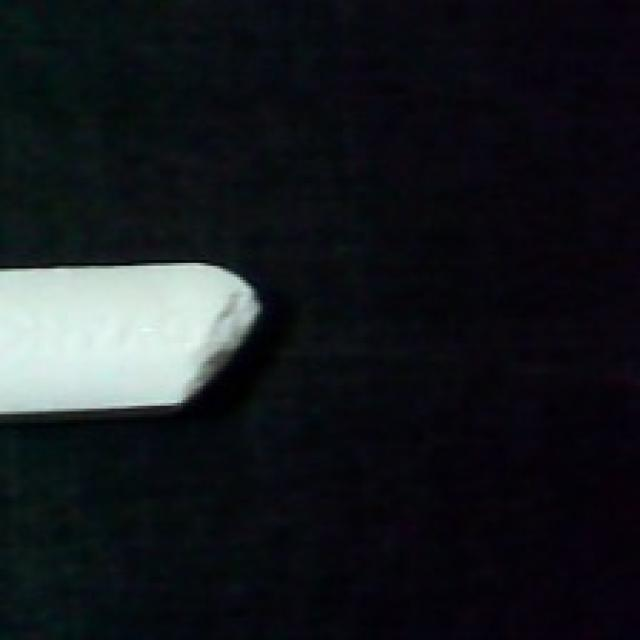defected: (0, 263, 271, 431)
